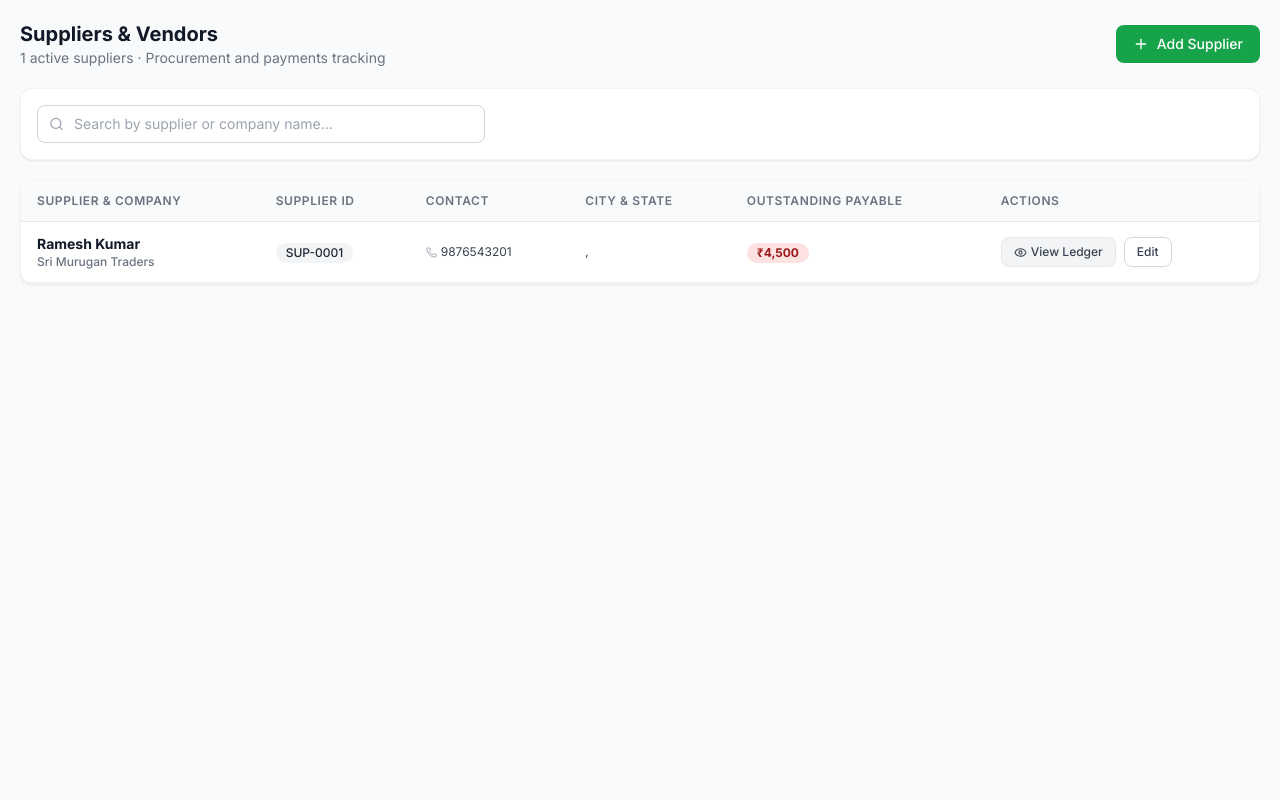
Test case: SuppliersPage Component & Buttons › renders supplier list and opens Add Supplier modal without error
Expected: the heading "Suppliers & Vendors" is shown, [20,22,218,46]
Expected: the text "Sri Murugan Traders" is shown, [37,254,154,269]
What coordinates should you click on to do the following:
click the button "Add Supplier"
I would click on:
 (1188, 44)
Its box is [1116,25,1260,63].
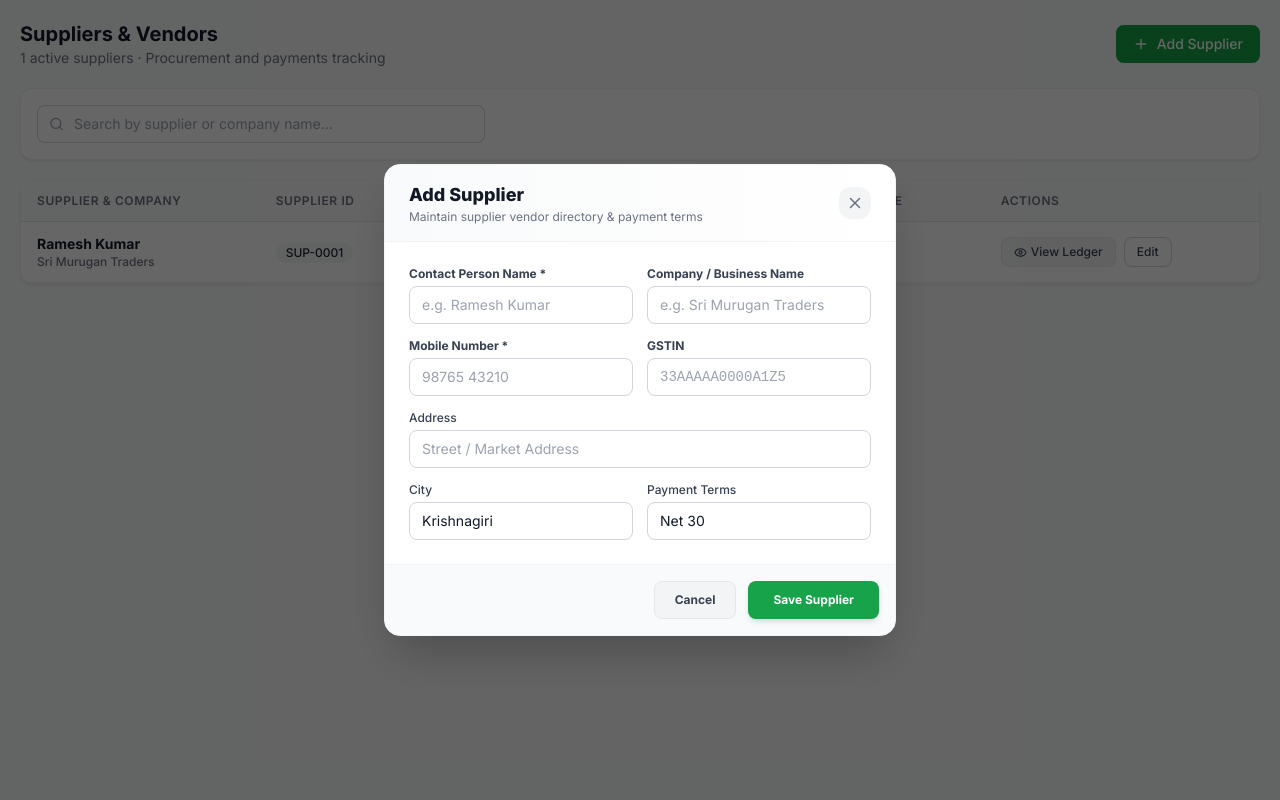
Result: the field with placeholder "e.g. Ramesh Kumar" is shown at [409,286,633,324]
